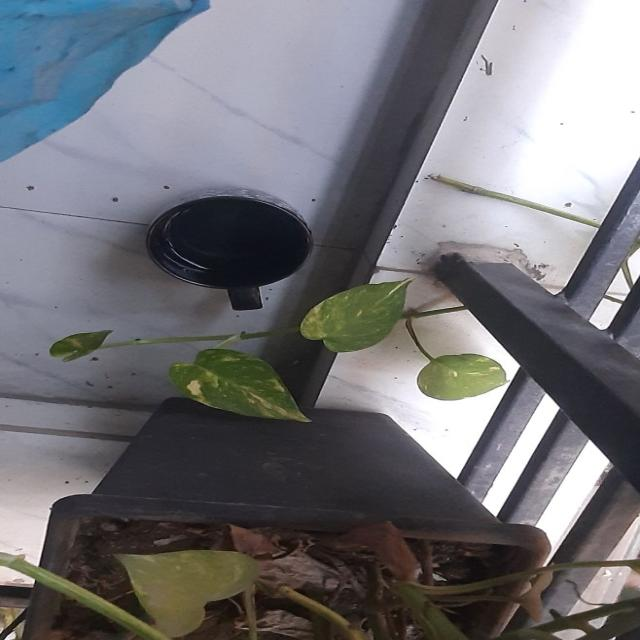Breeding Place: (0, 358, 619, 640), (109, 170, 333, 320)
